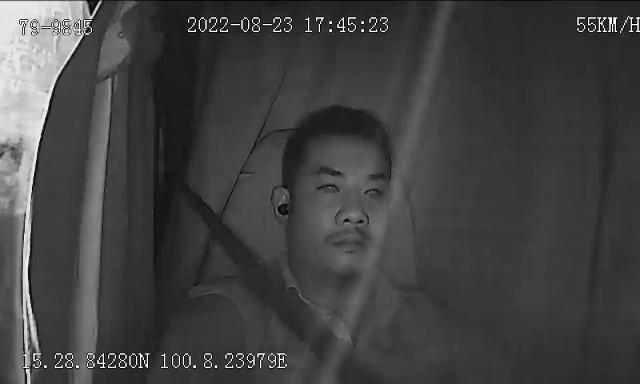SafeDriving: (356, 175, 392, 203)
Seatbelt: (186, 186, 384, 384)
